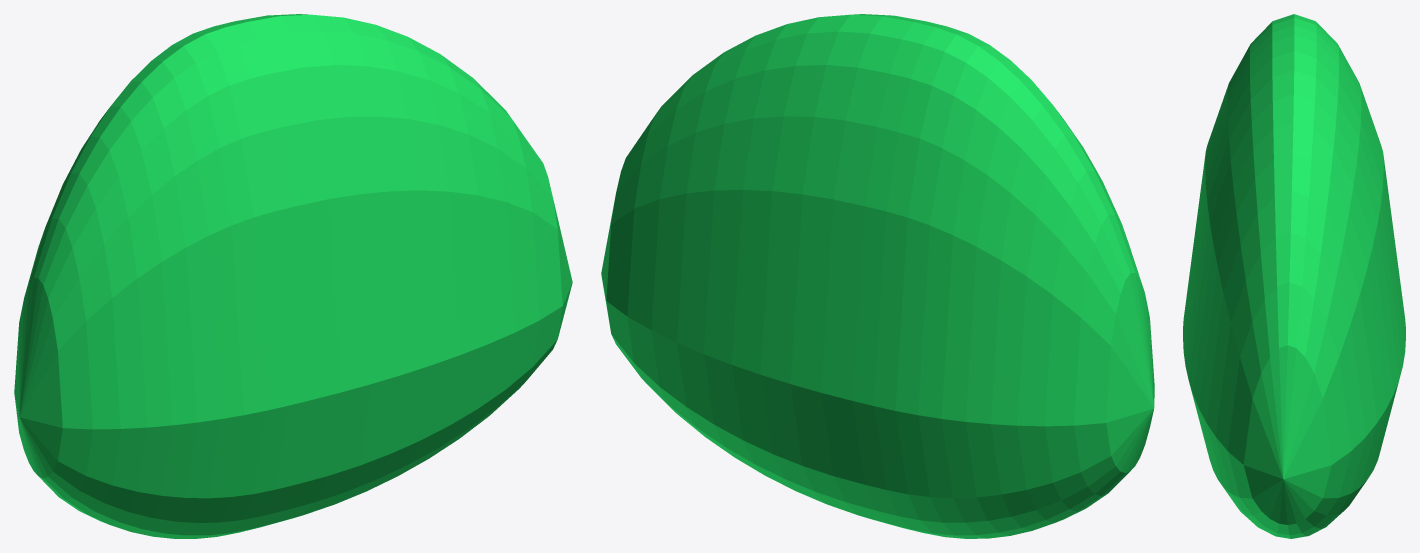
The model's file is fish2.gltf.
3 renders of one model, left to right at view 1: azimuth 30°, elevation 25°; view 2: azimuth 150°, elevation 25°; view 3: azimuth 270°, elevation 25°, orthographic. The views are drawn at different scales.
Parts seen in each view (by area): view 1: wave; view 2: wave; view 3: wave.
Part boxes in pixels (left/top/right/bottom): wave: left=14, top=14, right=572, bottom=538; wave: left=601, top=14, right=1154, bottom=538; wave: left=1183, top=14, right=1405, bottom=538.
Size of the model in its own units: 26 by 22.5 by 10.
